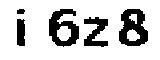6: (46, 4, 79, 53)
8: (116, 4, 149, 52)
i: (10, 3, 33, 54)
z: (82, 14, 112, 51)
